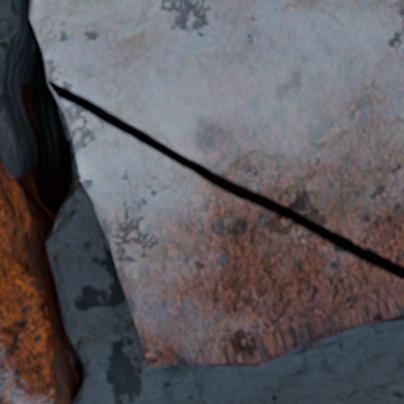brick: (31, 0, 403, 265), (58, 98, 403, 368), (0, 157, 69, 403)
crack: (0, 0, 403, 403)
